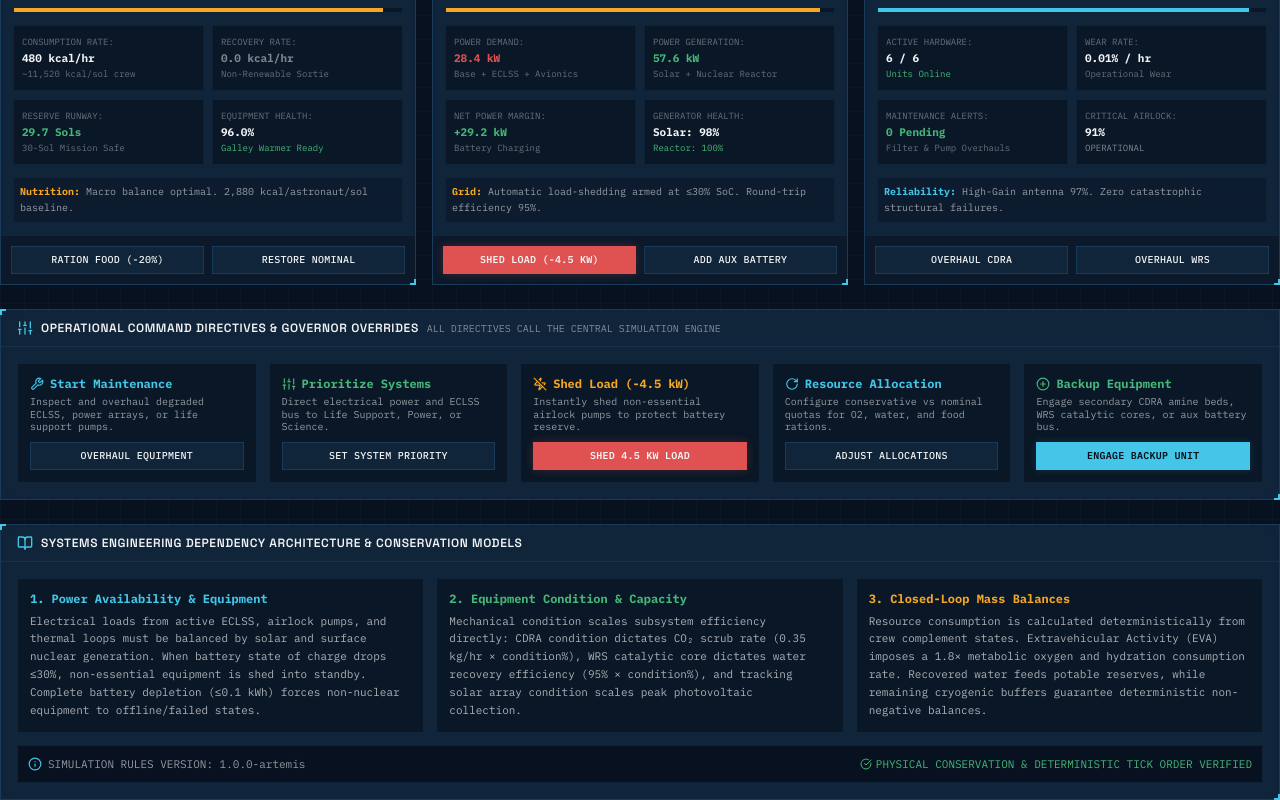
Test case: OPERATE Habitat Management Module & Subsystem Dependencies › 4. OPERATE Habitat View UI Rendering & Navigation › triggers load shedding directly from the operational controls console
(page scrolled)
Click the button "SHED 4.5 kW LOAD": (640, 456) top-left (533, 442), bottom-right (747, 470)
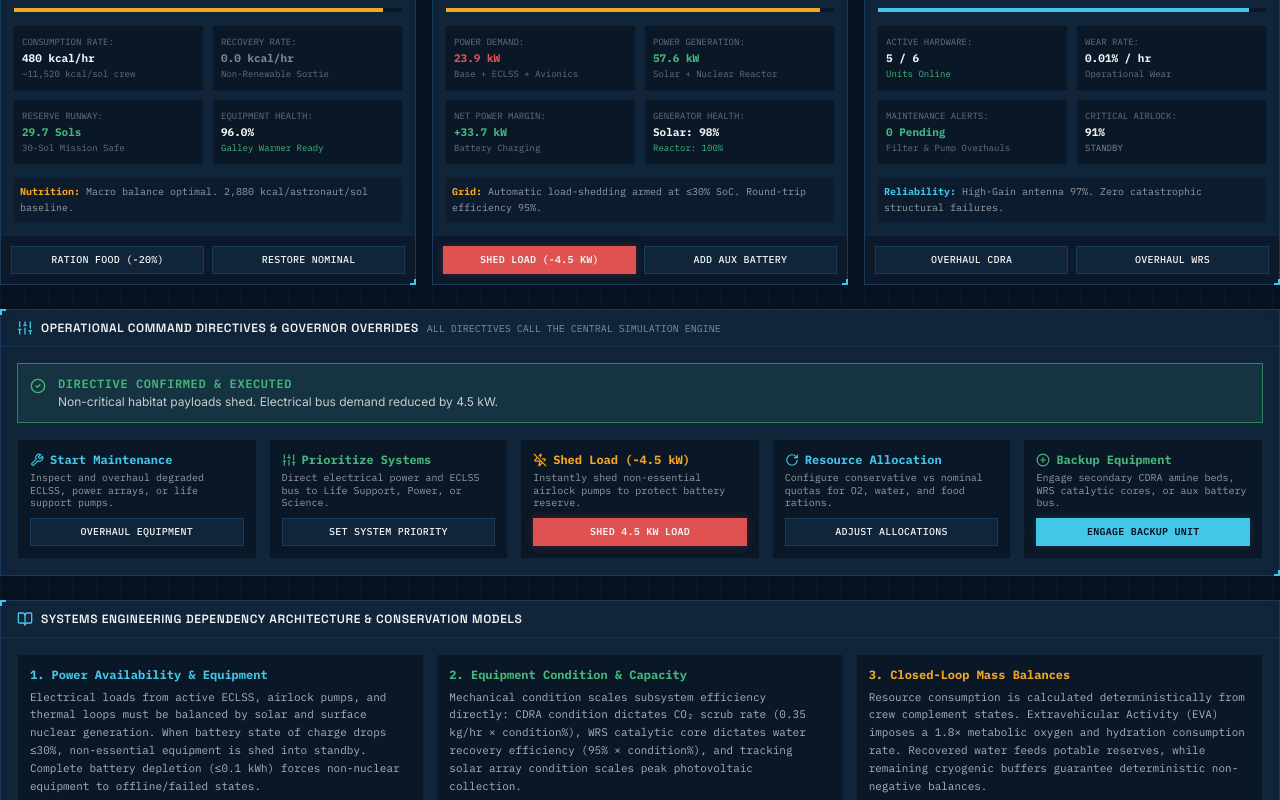
expect the text "DIRECTIVE CONFIRMED & EXECUTED" is shown: met, box top-left (58, 376), bottom-right (292, 391)
expect the text "demand reduced by 4.5 kW" is shown: met, box top-left (58, 394), bottom-right (498, 409)
